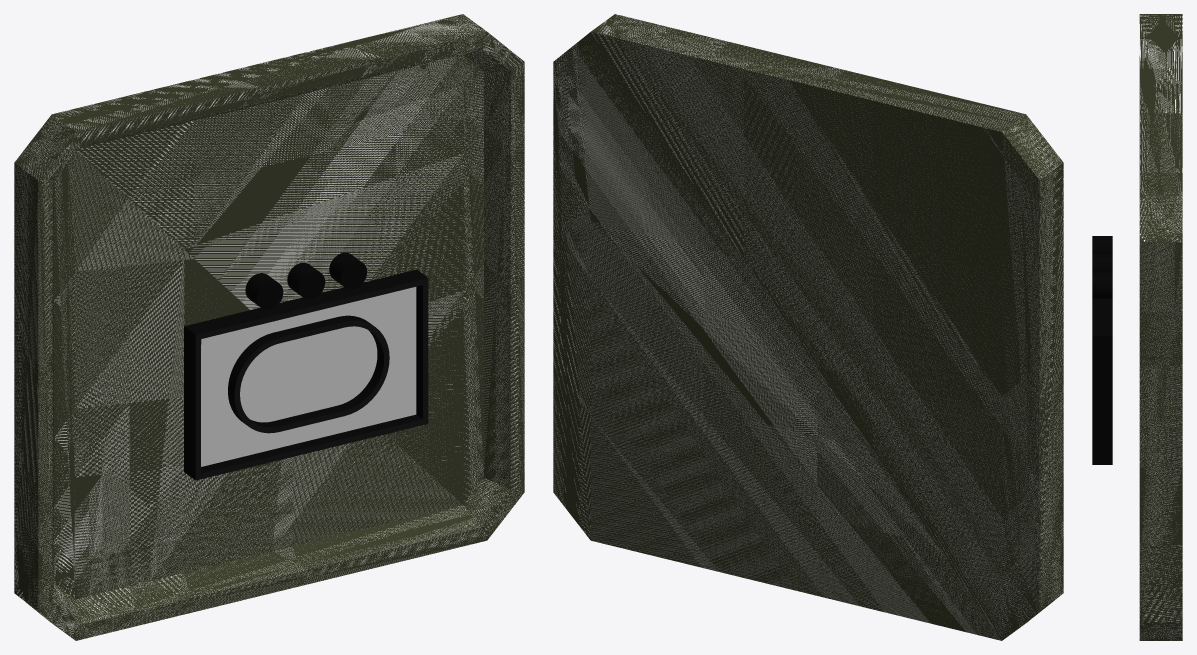
File: ORBAT_-_6.obj
The picture shows the model from 3 angles, left to right: view 1: azimuth 30°, elevation 25°; view 2: azimuth 150°, elevation 25°; view 3: azimuth 270°, elevation 25°; orthographic projection. The views are drawn at different scales.
Parts seen in each view (by area): view 1: Button.001_ID13, Button_ID3, SM_ORBAT_-_6_path1763-2.108; view 2: Button_ID3; view 3: Button_ID3, SM_ORBAT_-_6_path1763-2.108.
Boxes of the visible parts, left/top/right/bottom form: Button.001_ID13: left=52, top=48, right=510, bottom=624; Button_ID3: left=14, top=14, right=524, bottom=640; SM_ORBAT_-_6_path1763-2.108: left=184, top=252, right=428, bottom=480; Button_ID3: left=553, top=14, right=1063, bottom=640; Button_ID3: left=1139, top=14, right=1182, bottom=640; SM_ORBAT_-_6_path1763-2.108: left=1092, top=236, right=1112, bottom=464.
Bounding box in the file's own units: 1 × 1 × 0.1819.
